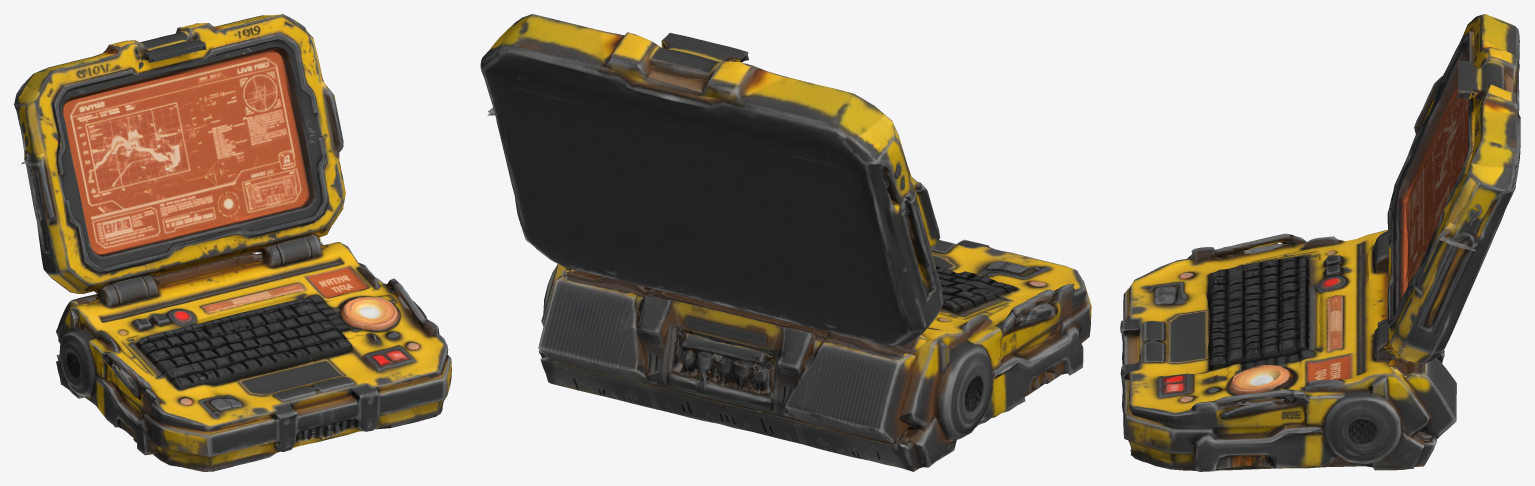
The model's file is Laptop.glb.
The picture shows the model from 3 angles, left to right: view 1: azimuth 30°, elevation 25°; view 2: azimuth 150°, elevation 25°; view 3: azimuth 270°, elevation 25°; orthographic projection. The views are drawn at different scales.
Parts seen in each view (by area): view 1: Object_4; view 2: Object_4; view 3: Object_4.
Part boxes in pixels (x1,y1,x2,y2): Object_4: [14, 14, 451, 471]; Object_4: [480, 14, 1091, 471]; Object_4: [1120, 14, 1520, 471].
Size of the model in its own units: 1.86 by 1.72 by 1.91.
Materials: 1 (1 with a texture image).
